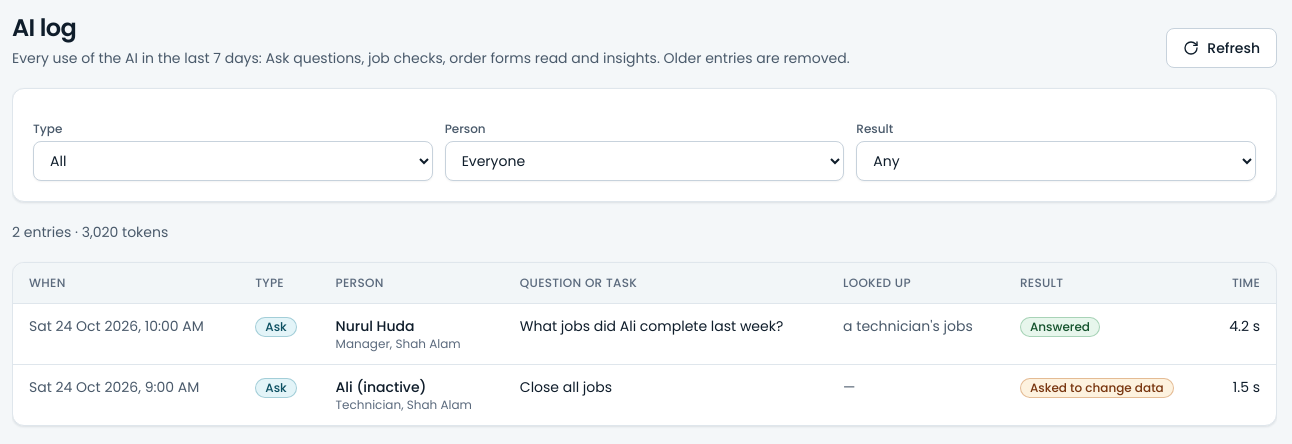
Scenario: The Admin AI log (0008 PRD Q13, P8; 0009 plan P6) › lists every question of the last 7 days with who asked, what was looked up and how it ended
This screenshot has width=1292, height=444.
Expected: the text "What jobs did Ali complete last week?" is shown, [504,304,827,364]
Expected: the text "a technician's jobs" is shown, [827,304,1004,364]
Select "Ali" in the dropdown labelled "Person" at x=645, y=161, box [445,141,844,181]
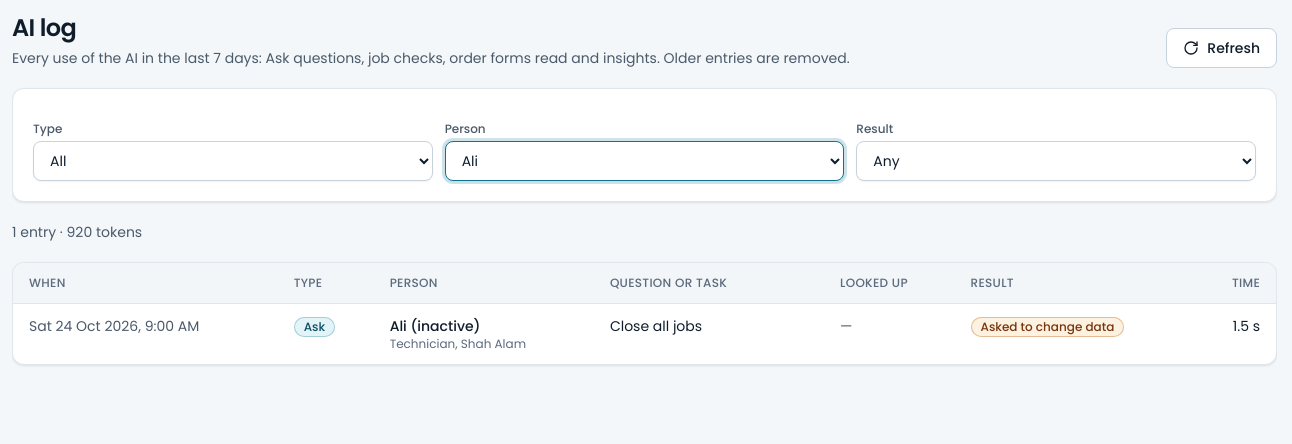
Result: the text "1 entry · 920 tokens" is shown at [12,222,142,242]
Result: the text "What jobs did Ali complete last week?" is gone
